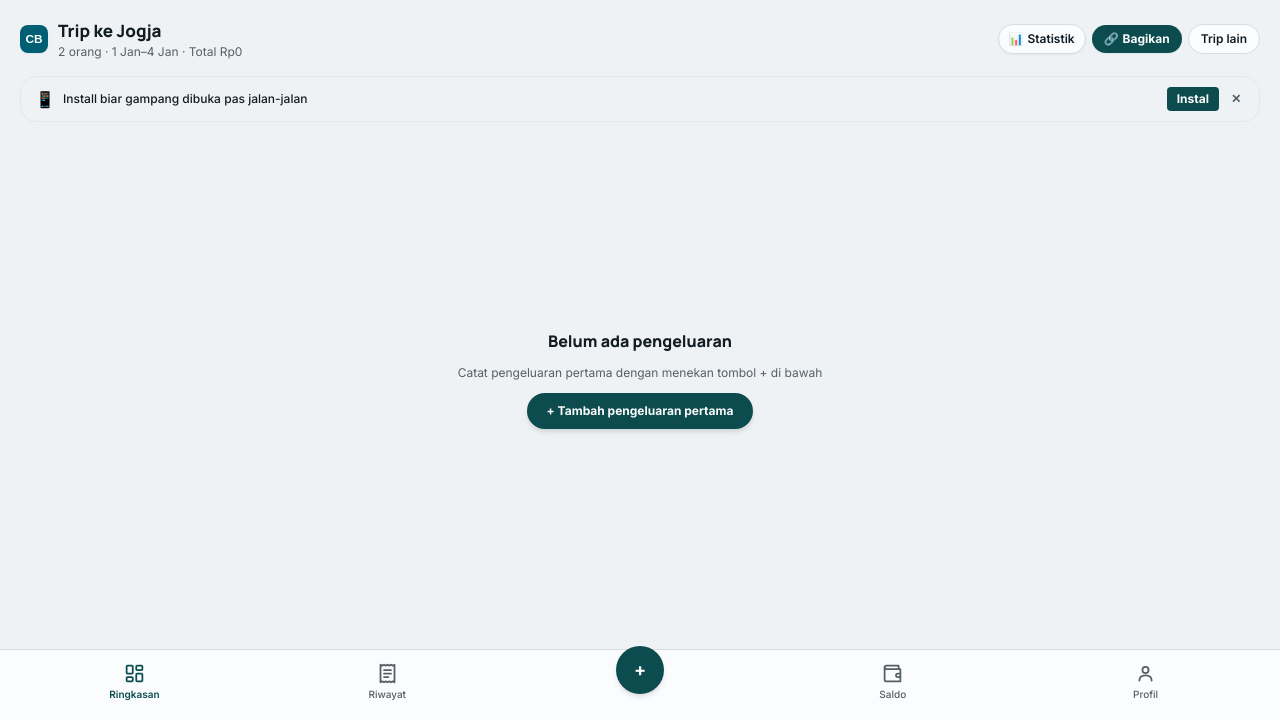
it: RingkasanScreen — empty state › opens the add sheet from the empty-state button
Click the button "+ Tambah pengeluaran pertama": x=640, y=411 527,393 -> 753,429
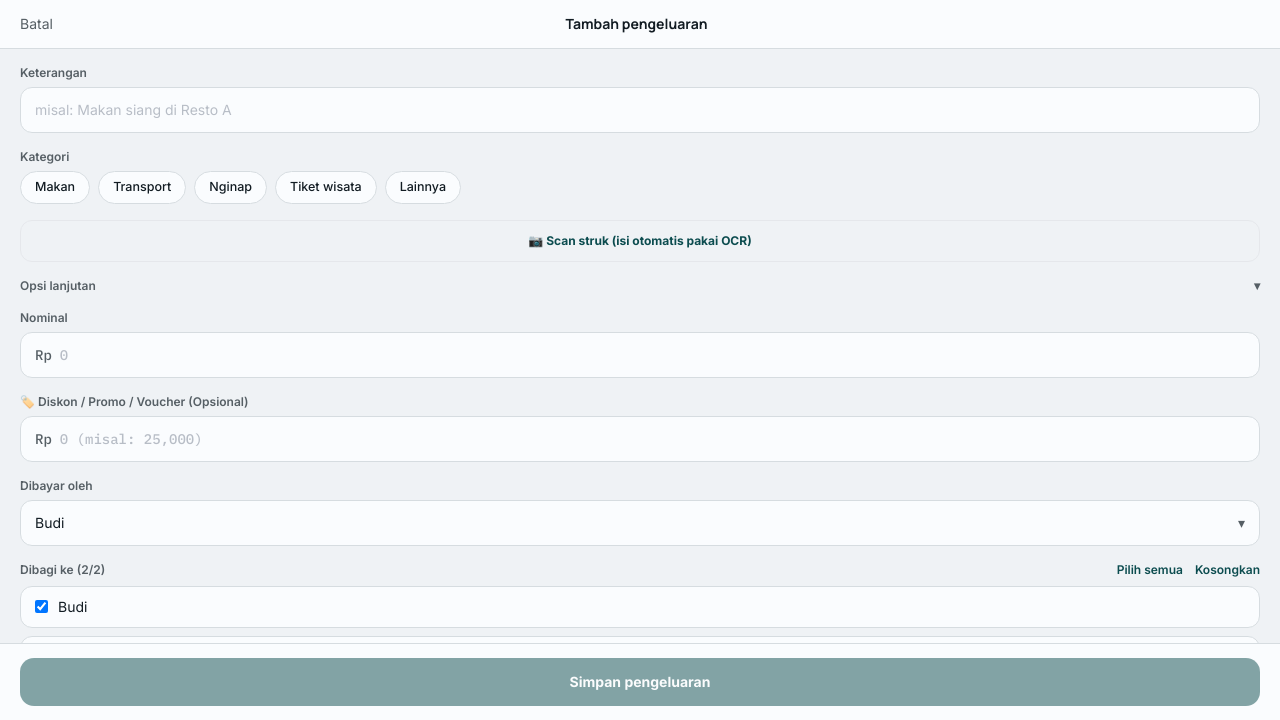
expect the text "Tambah pengeluaran" is shown: met, box 565,14 -> 707,34
